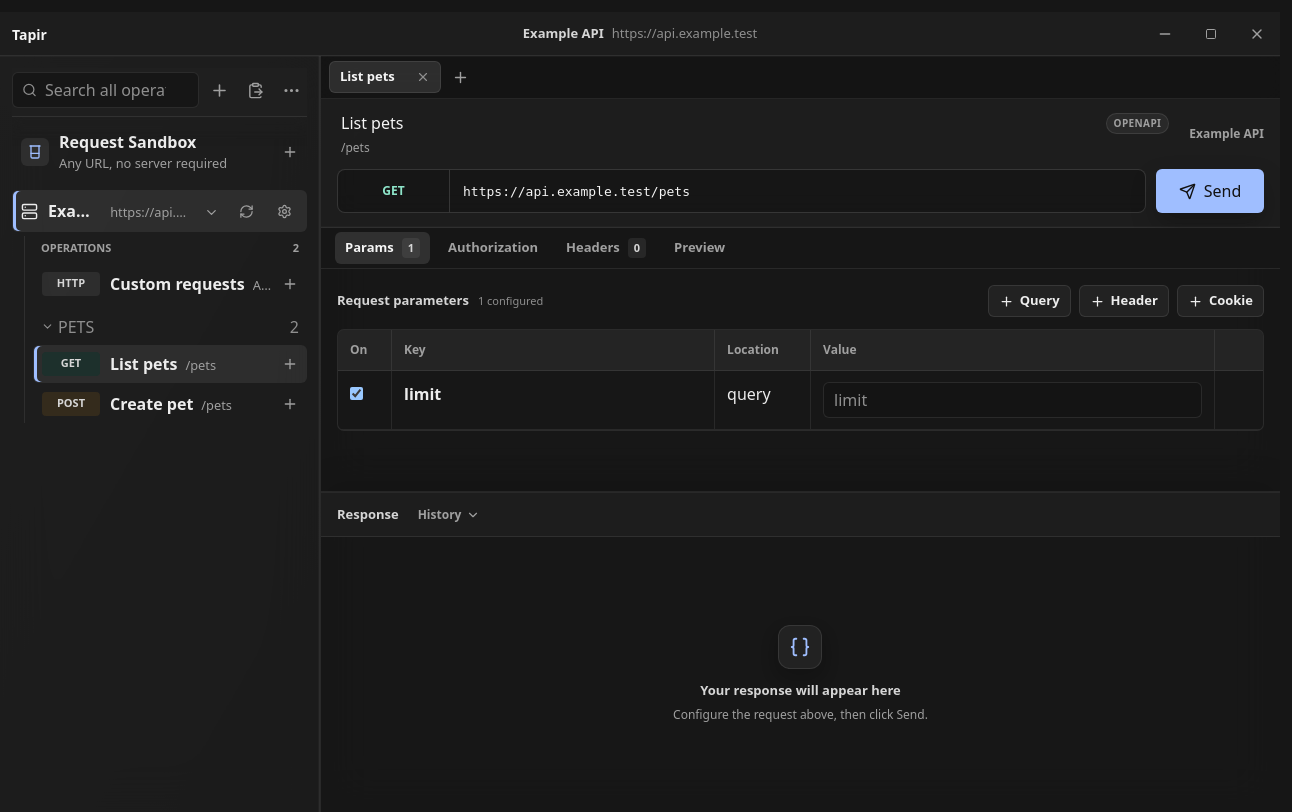
it: desktop renderer app › surfaces request failures beside Send
Click the button "Send": (1210, 191) [1156,169,1264,213]
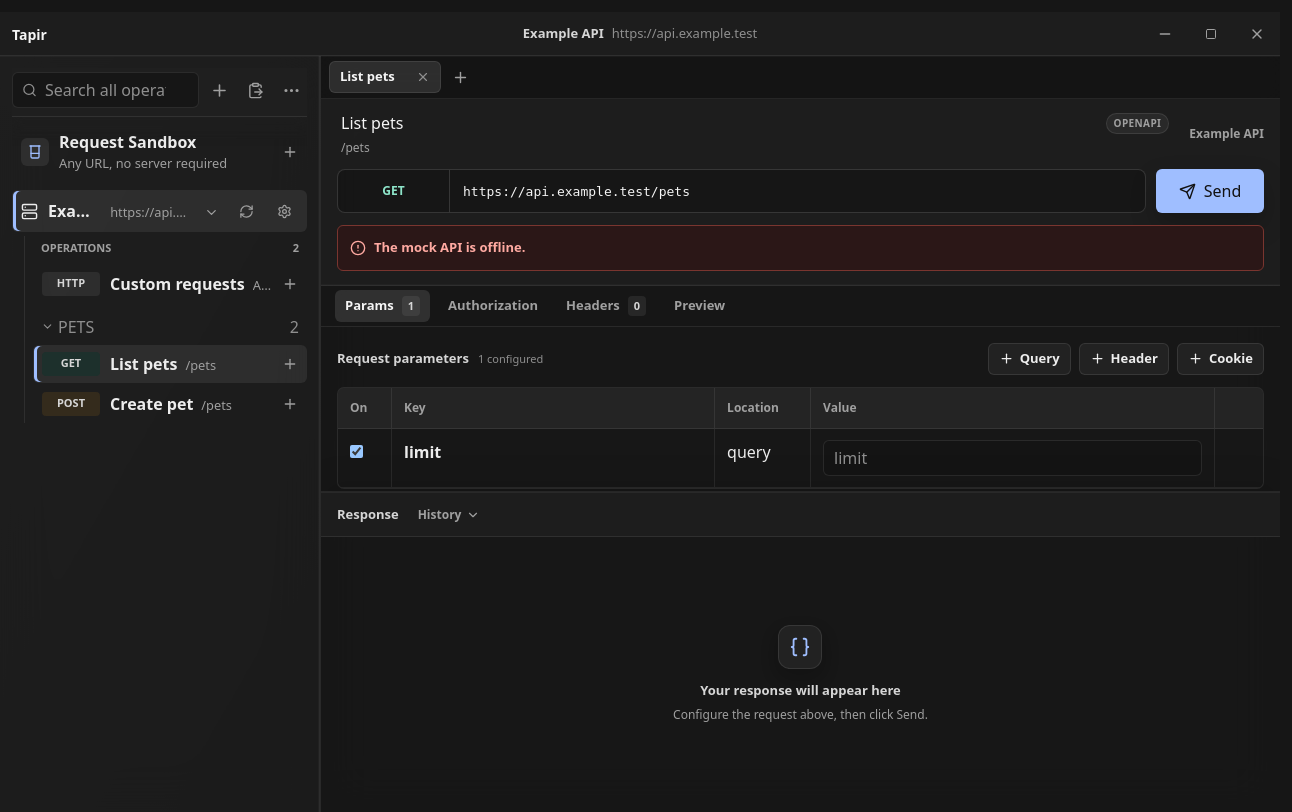
Expected: the message "The mock API is offline." is shown, [337,225,1264,270]
